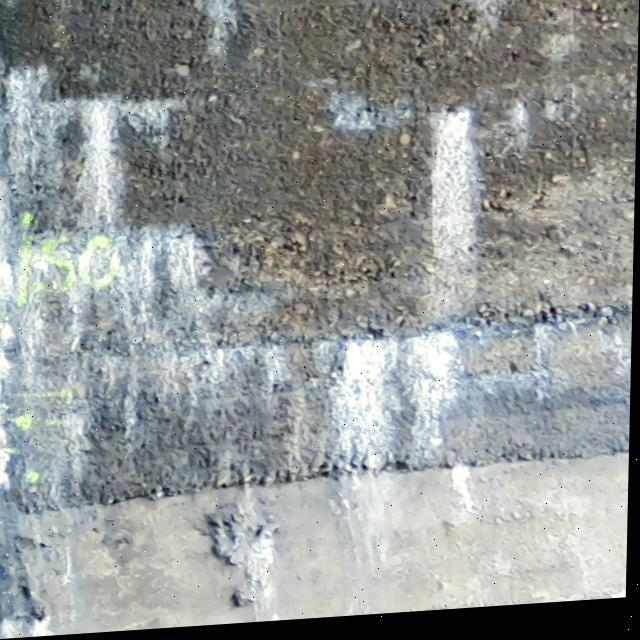D01: (0, 78, 261, 485), (330, 334, 460, 465), (430, 110, 481, 273), (198, 2, 237, 57)
